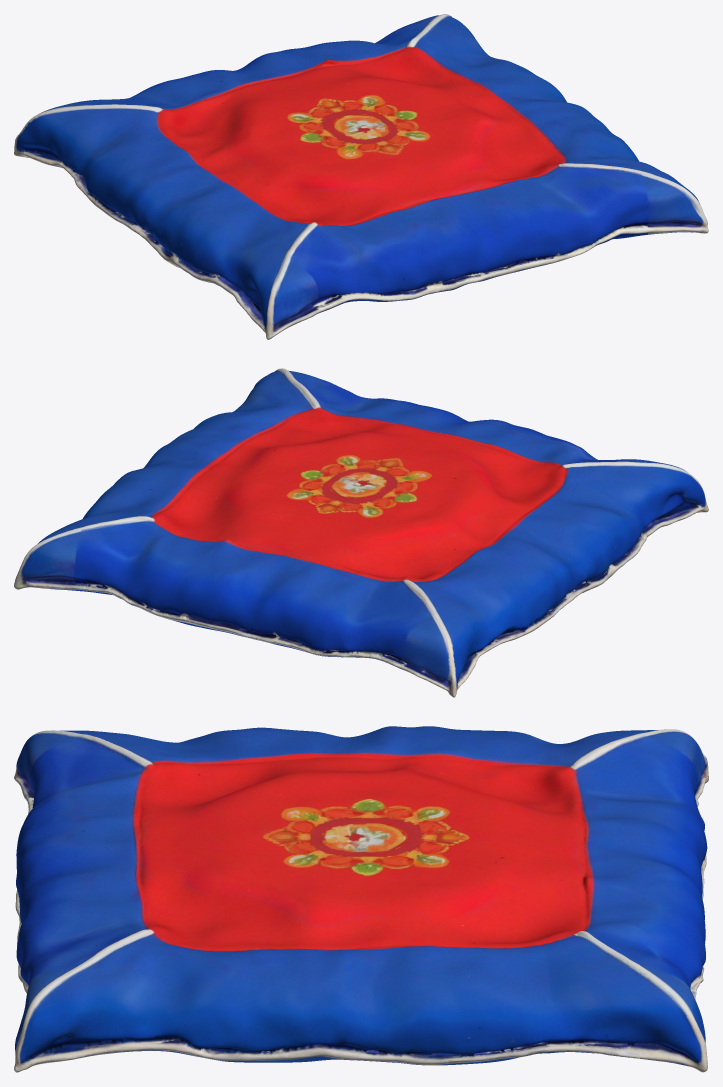
3 views of the same model, one above another, from view 1: azimuth 30°, elevation 25°; view 2: azimuth 150°, elevation 25°; view 3: azimuth 270°, elevation 25° (orthographic). The views are drawn at different scales.
Bounding box in the file's own units: 2 × 0.3542 × 2.
1 material, 1 textured.
